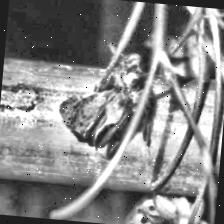Gray Mold: (56, 47, 157, 152)
